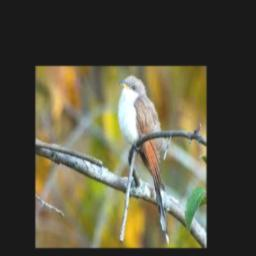Cuckoo: (118, 75, 169, 245)
